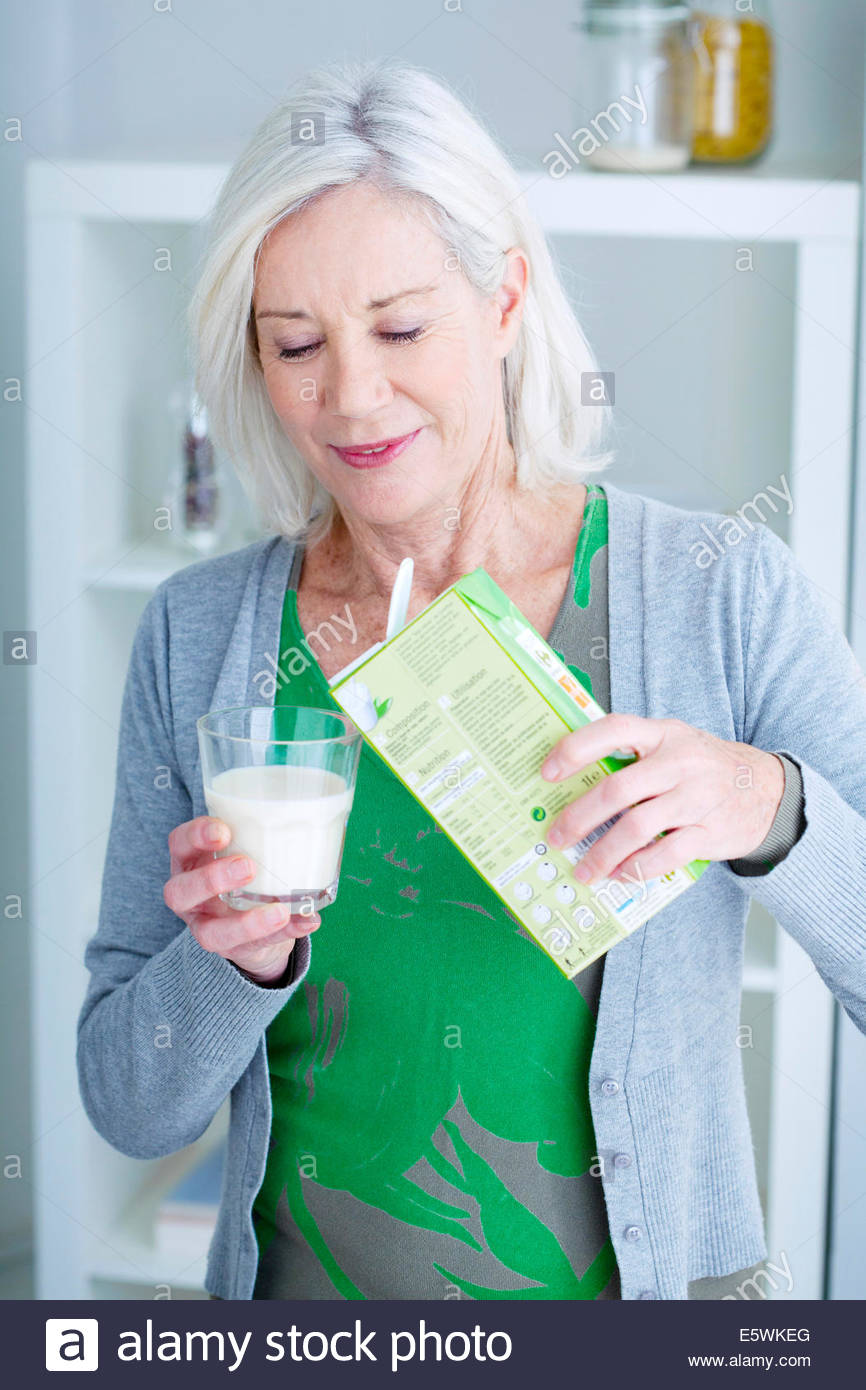carton: (321, 535, 736, 1029)
